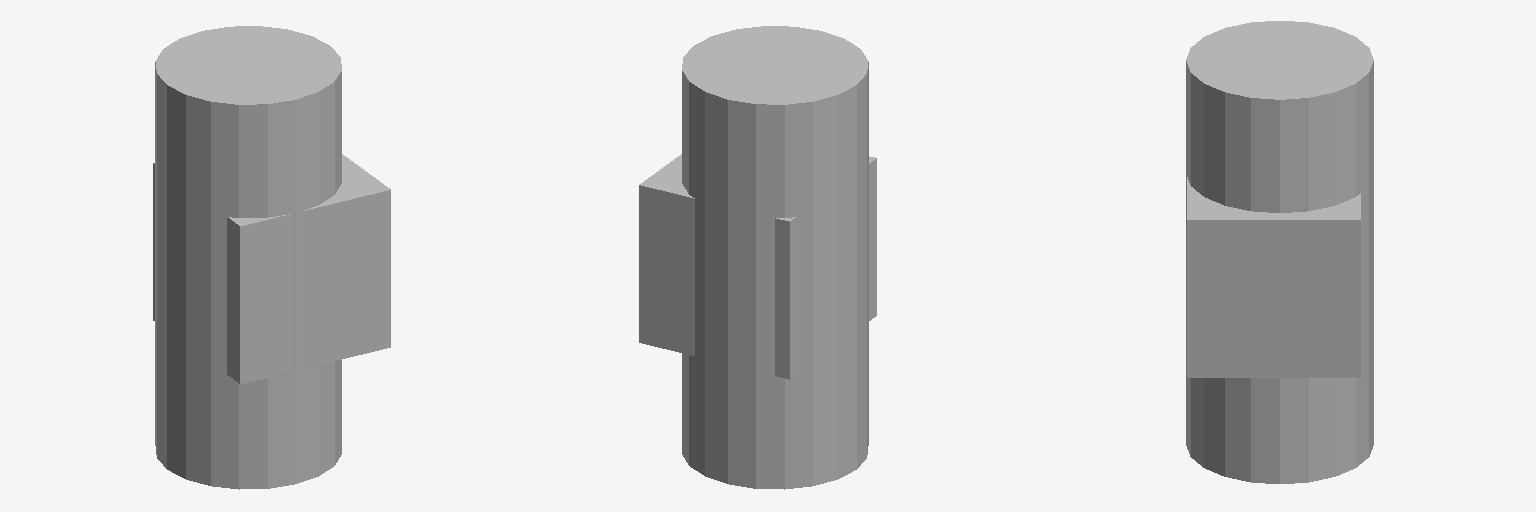
The model's file is stacks.obj.
The picture shows the model from 3 angles: view 1: azimuth 30°, elevation 25°; view 2: azimuth 150°, elevation 25°; view 3: azimuth 270°, elevation 25°; orthographic projection.
Visible parts, largest first — view 1: pCylinder1, pCube1; view 2: pCylinder1, pCube1; view 3: pCylinder1, pCube1.
Part boxes in pixels (x1,y1,x2,y2): pCylinder1: (155, 26, 341, 489); pCube1: (153, 154, 390, 383); pCylinder1: (682, 26, 868, 489); pCube1: (639, 154, 876, 379); pCylinder1: (1186, 21, 1373, 483); pCube1: (1187, 177, 1360, 377).
Bounding box in the file's own units: 8.12 × 16.87 × 7.47.